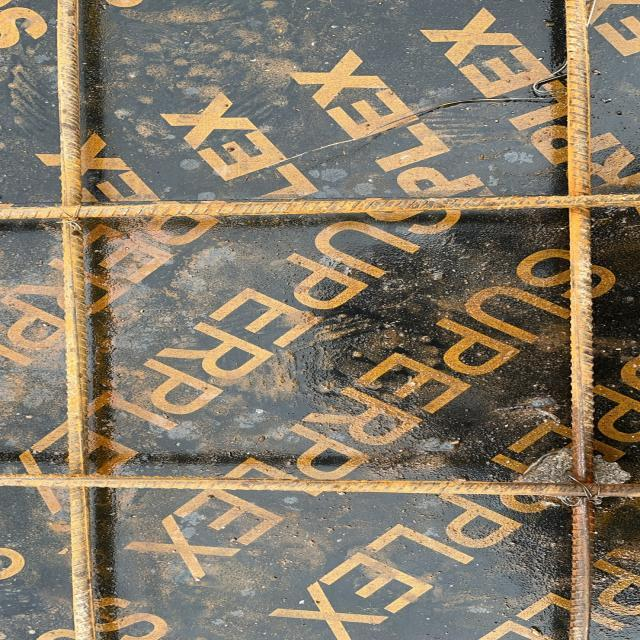ribbed bar: (54, 0, 95, 639), (563, 0, 591, 639), (0, 194, 639, 221), (0, 473, 639, 497)
